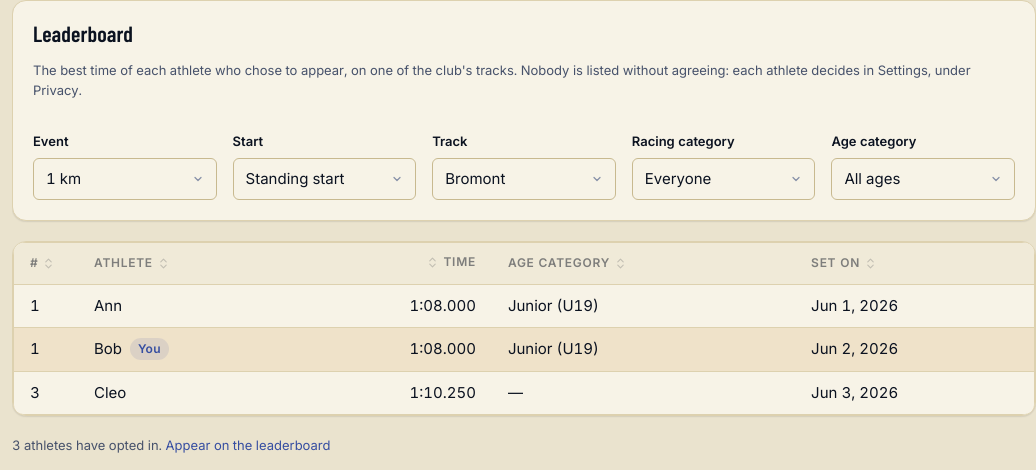
LeaderboardPanel › a flying-only event fixes the start
The image size is (1036, 470).
Check: the text "Ann" is shown, box [94,295,122,317]
Select "Flying 200" in the dropdown labelled "Event". click: point(125, 179)
box: [33,158,217,200]
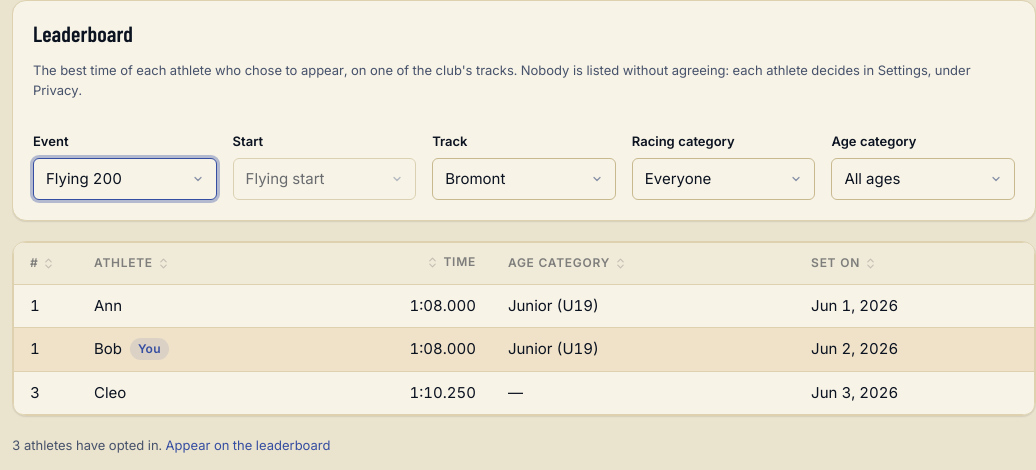
Check: the dropdown labelled "Start" is disabled, box [233,158,416,200]
